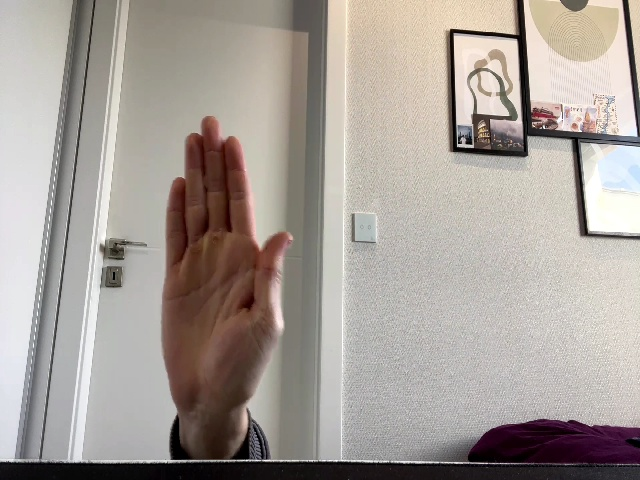B: (161, 116, 294, 419)
